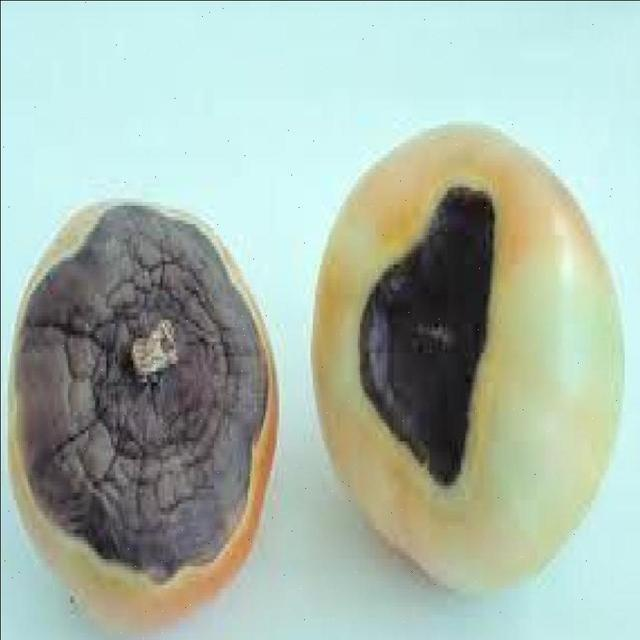Blossom End Rot Fruit: (93, 209, 282, 261)
